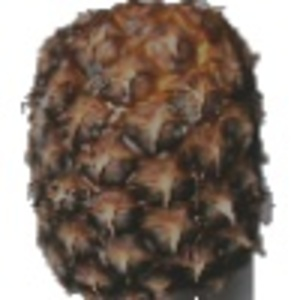abacaxi: (17, 2, 277, 298)
